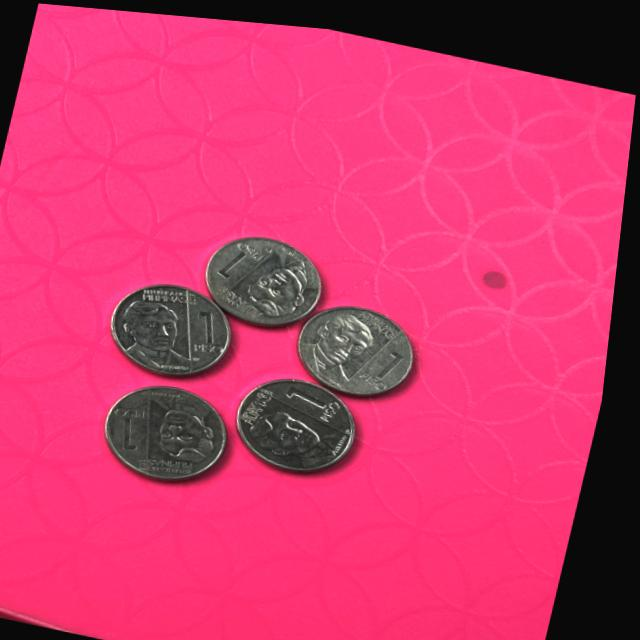1_New_Front: (279, 368, 358, 423), (111, 388, 171, 454), (219, 232, 268, 290), (187, 298, 232, 358), (371, 327, 416, 386)
